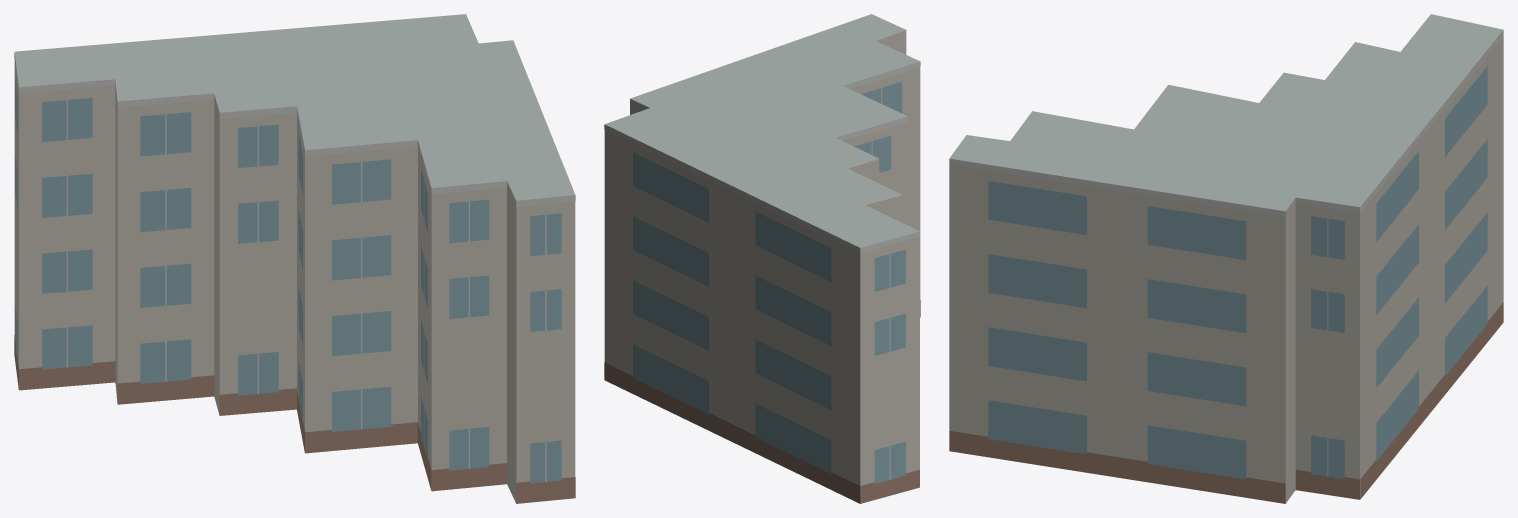
The model's file is survey-upis-32870290.glb.
The picture shows the model from 3 angles, left to right: view 1: azimuth 30°, elevation 25°; view 2: azimuth 150°, elevation 25°; view 3: azimuth 270°, elevation 25°; orthographic projection. The views are drawn at different scales.
Parts seen in each view (by area): view 1: survey-upis-32870290.tmp; view 2: survey-upis-32870290.tmp; view 3: survey-upis-32870290.tmp.
Boxes of the visible parts, left/top/right/bottom form: survey-upis-32870290.tmp: left=14, top=14, right=575, bottom=503; survey-upis-32870290.tmp: left=604, top=14, right=920, bottom=503; survey-upis-32870290.tmp: left=949, top=14, right=1503, bottom=503.
Size of the model in its own units: 17.22 by 11.9 by 20.45.
